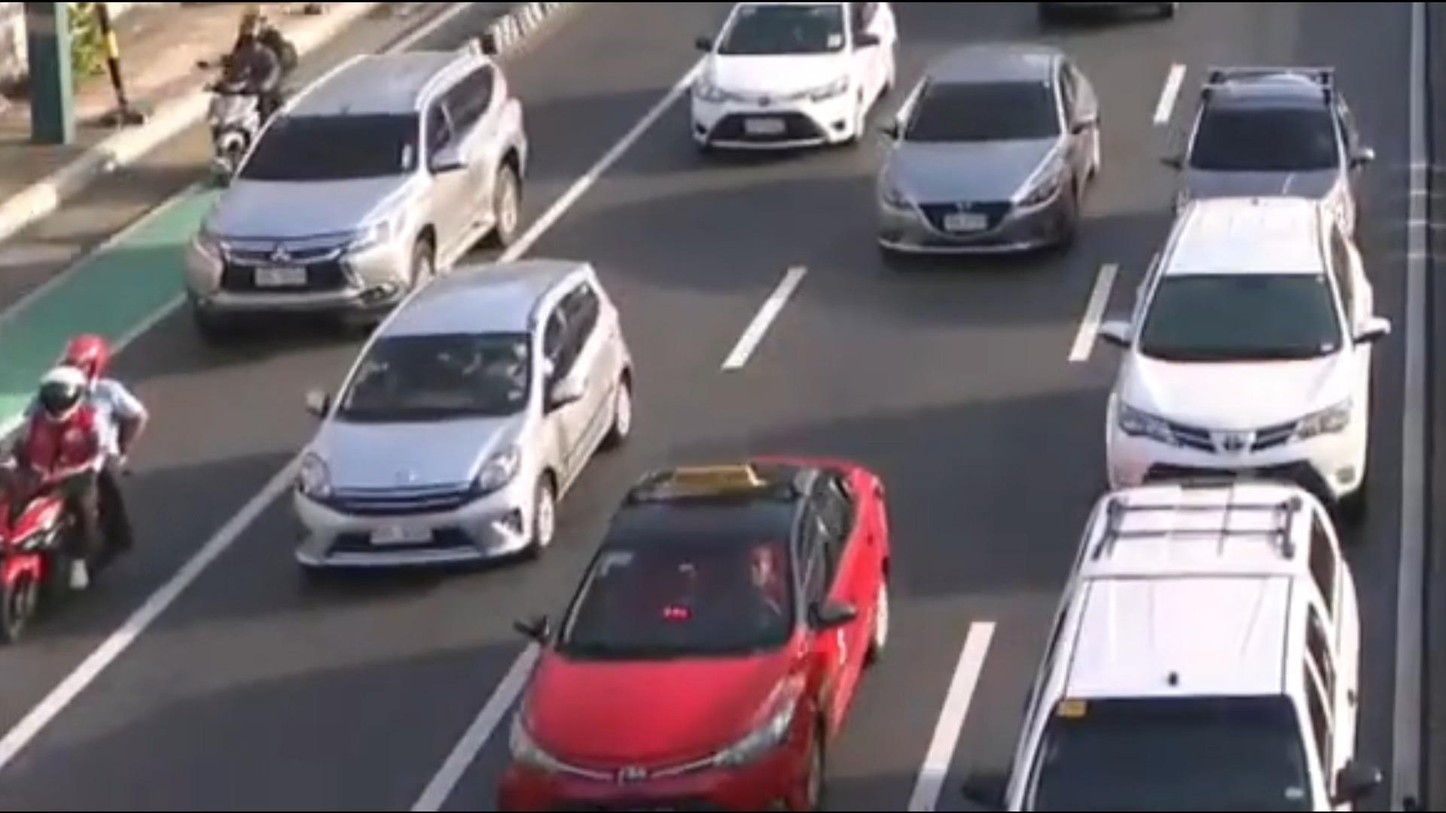Motorcycle: (0, 312, 188, 649), (168, 0, 292, 178)
SUV: (972, 440, 1417, 813), (164, 15, 554, 360), (1065, 200, 1386, 536)
Sedan: (243, 232, 673, 601), (858, 38, 1113, 292), (1136, 54, 1381, 251), (667, 0, 908, 182)
